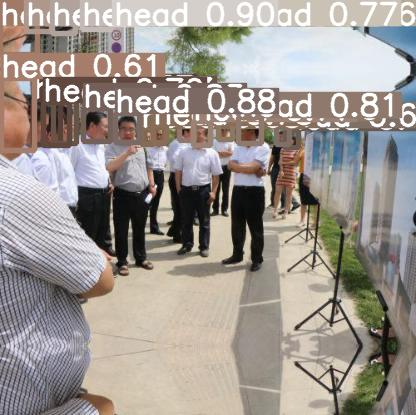head: (1, 78, 34, 150), (0, 0, 37, 54), (33, 99, 60, 144), (43, 102, 69, 145), (53, 101, 76, 143), (83, 108, 110, 141), (82, 0, 111, 29), (26, 0, 51, 31), (52, 0, 75, 33), (115, 113, 139, 142), (114, 0, 139, 24), (238, 117, 261, 143), (237, 0, 261, 19), (193, 121, 210, 145), (144, 127, 164, 143), (191, 0, 210, 16), (179, 120, 194, 140), (218, 120, 232, 139), (150, 0, 166, 14), (285, 130, 298, 147), (276, 127, 289, 144), (153, 125, 166, 142), (182, 0, 197, 14), (218, 0, 232, 15), (141, 128, 153, 144), (275, 0, 292, 9)
